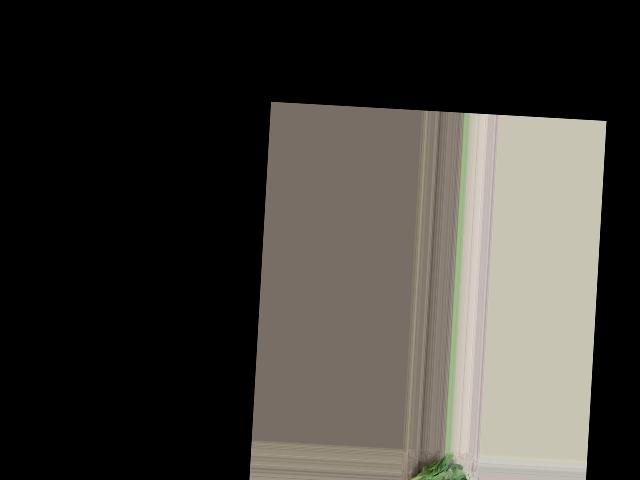lettuce: (400, 451, 473, 480)
